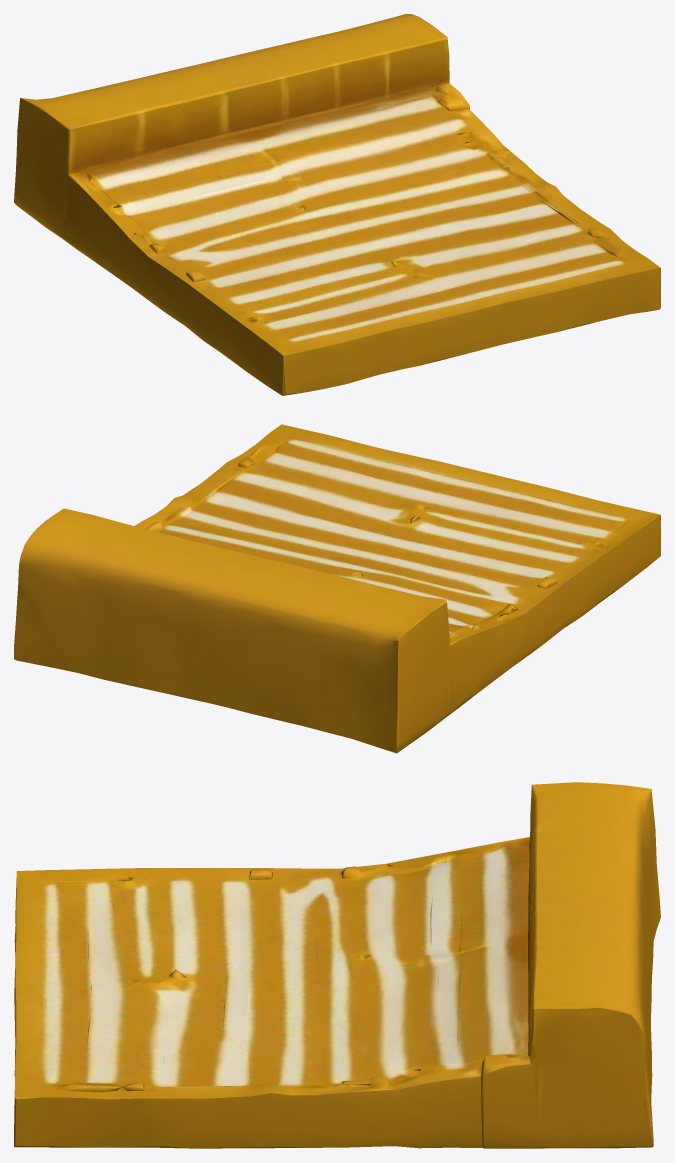
Rendered from m2StreetJumpRamp.glb.
The picture shows the model from 3 angles, top to bottom: view 1: azimuth 30°, elevation 25°; view 2: azimuth 150°, elevation 25°; view 3: azimuth 270°, elevation 25°; orthographic projection. The views are drawn at different scales.
Visible parts, largest first — view 1: model; view 2: model; view 3: model.
Part boxes in pixels (bbox=[...]): model: bbox=[14, 14, 660, 395]; model: bbox=[14, 424, 660, 753]; model: bbox=[14, 782, 660, 1148].
Bounding box in the file's own units: 1.58 × 0.4602 × 1.89.
Materials: 1 (1 with a texture image).
